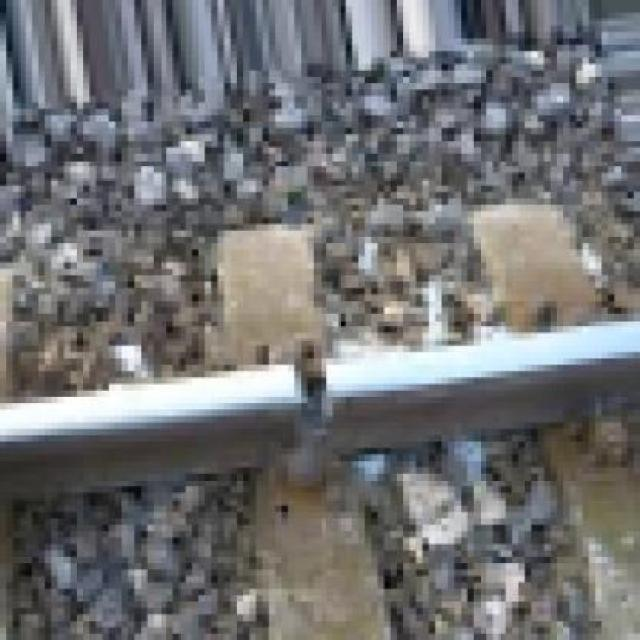defective: (114, 194, 540, 614)
